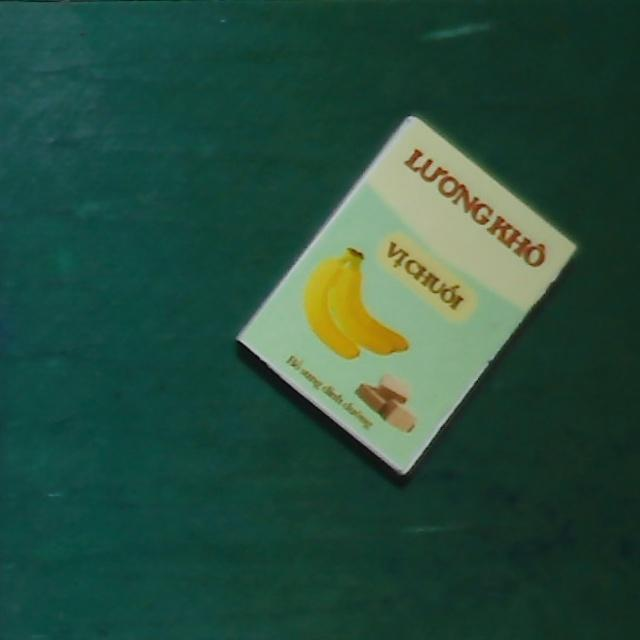chuoi: (233, 112, 583, 475)
